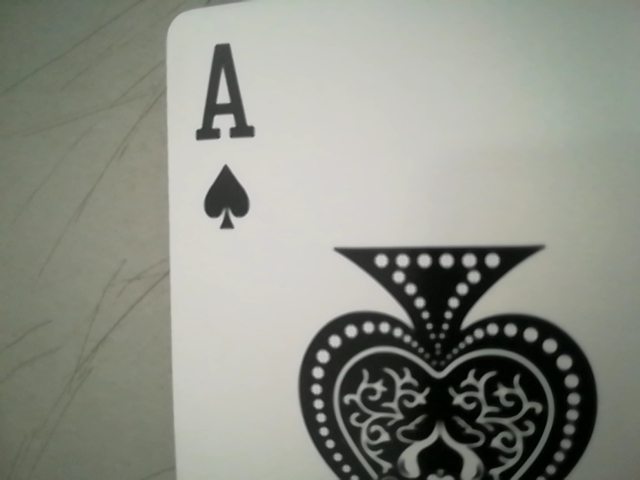ht a: (176, 32, 271, 240)
